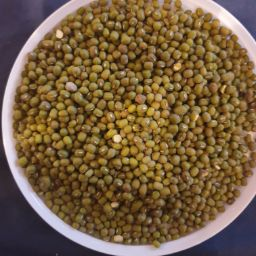Green gram dal(moong): (107, 4, 204, 238), (20, 129, 252, 212), (170, 9, 256, 220), (75, 14, 149, 244), (33, 67, 255, 143), (24, 41, 94, 221)
